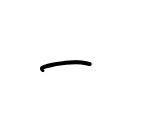minus: (39, 60, 92, 72)
